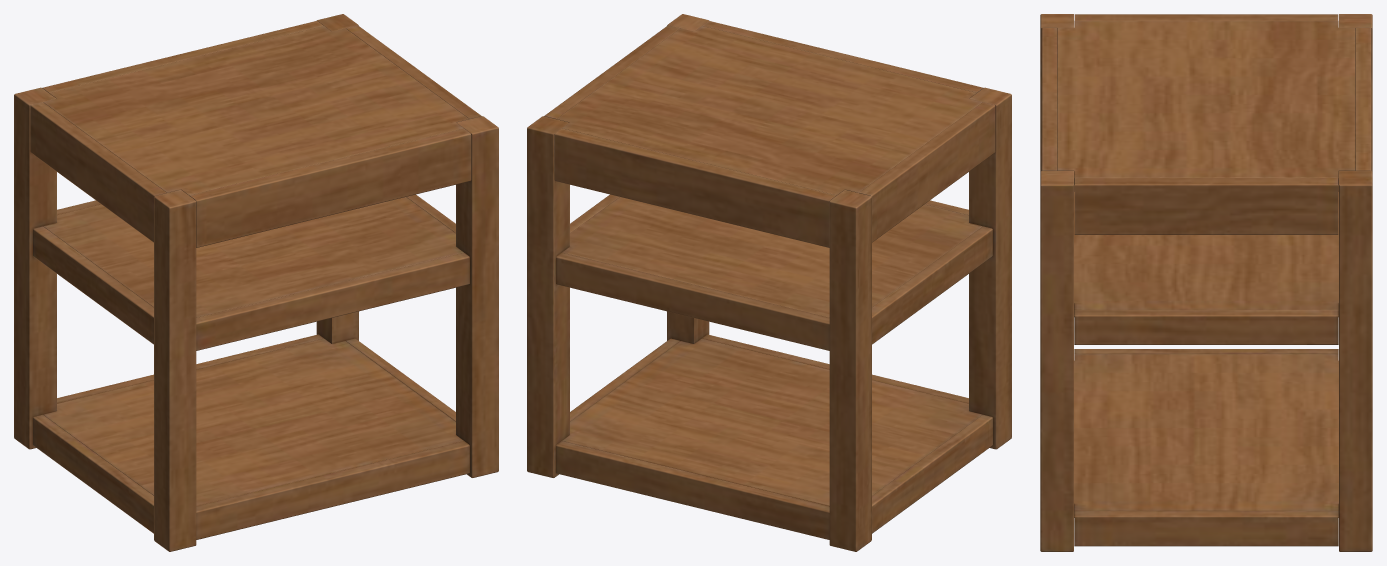
The model's file is bedside-table.glb.
3 views of the same model, side by side, from view 1: azimuth 30°, elevation 25°; view 2: azimuth 150°, elevation 25°; view 3: azimuth 270°, elevation 25° (orthographic). The views are drawn at different scales.
Visible parts, largest first — view 1: side_table_01; view 2: side_table_01; view 3: side_table_01.
Part boxes in pixels (x1,y1,x2,y2): side_table_01: (14,14,498,551); side_table_01: (527,14,1011,551); side_table_01: (1040,14,1372,551).
Size of the model in its own units: 0.55 by 0.5507 by 0.45.
1 material, 1 textured.
